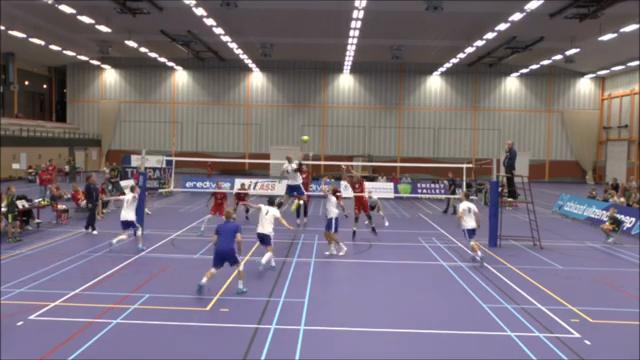Attack: (274, 148, 311, 223)
Block: (294, 152, 311, 227)
Player: (197, 210, 247, 294), (247, 197, 292, 269), (342, 166, 376, 239), (110, 185, 144, 250), (457, 192, 483, 264), (324, 185, 346, 255), (200, 182, 226, 234), (600, 207, 622, 244), (367, 190, 388, 226), (234, 183, 249, 219)
ball: (299, 132, 311, 144)
